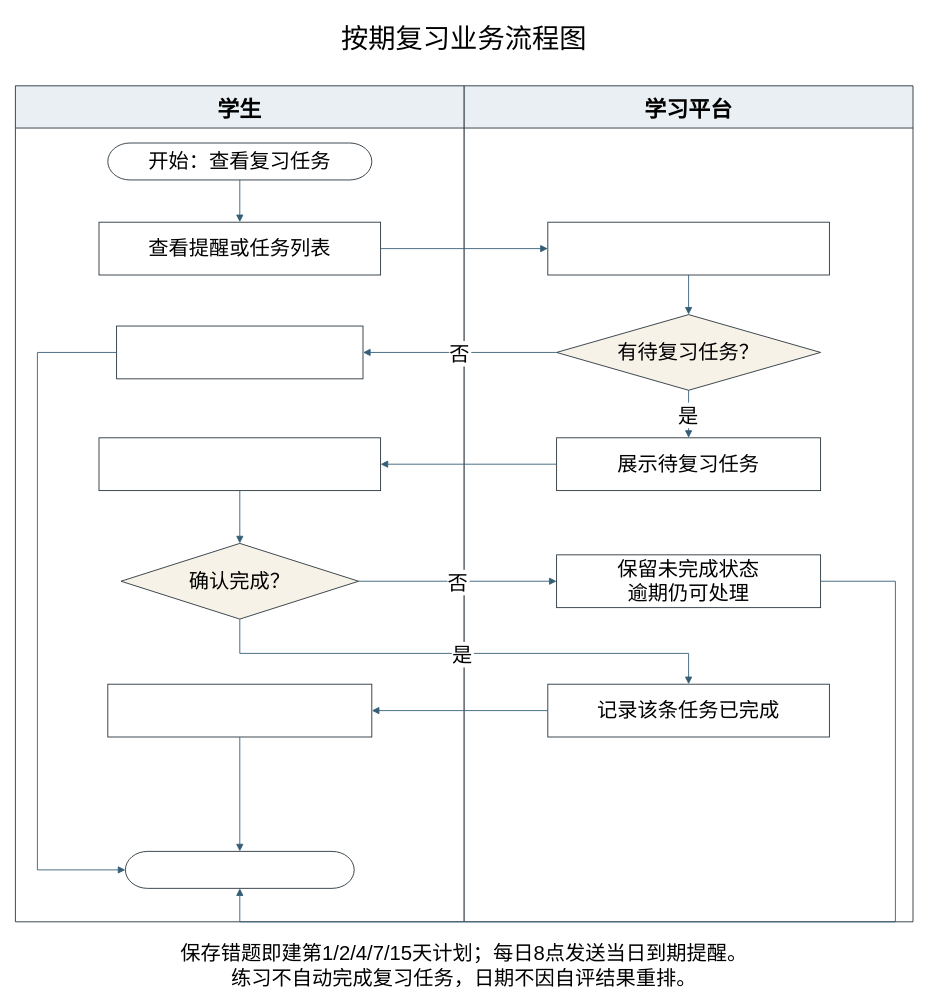
Image size: 928x1004. Some labels were removed from this diagram. The shapes that lost their labels are listed below. From the top down, each one's centre as x and y in pixels, then its label:
At point 688,248: "查询到期、逾期 未完成的任务".
At point 239,352: "暂无任务 之后再查看".
At point 239,464: "选择错题并复习 按需进行自评练习".
At point 239,710: "查看学习反馈".
At point 239,869: "结束本次复习".
